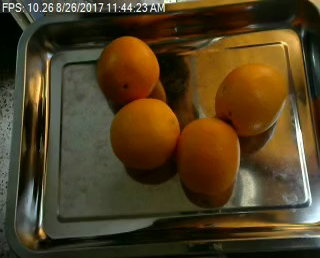Orange: (216, 62, 290, 137), (180, 118, 240, 199), (109, 98, 178, 167), (97, 37, 159, 103)
